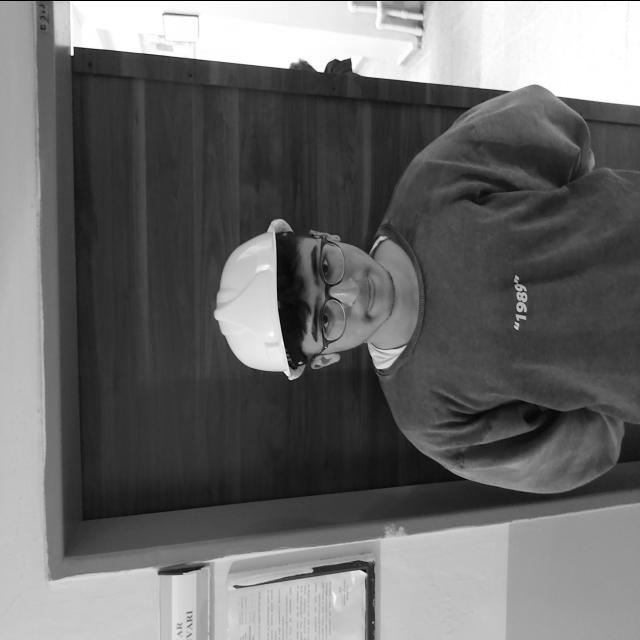construction helmet: (215, 217, 291, 374)
